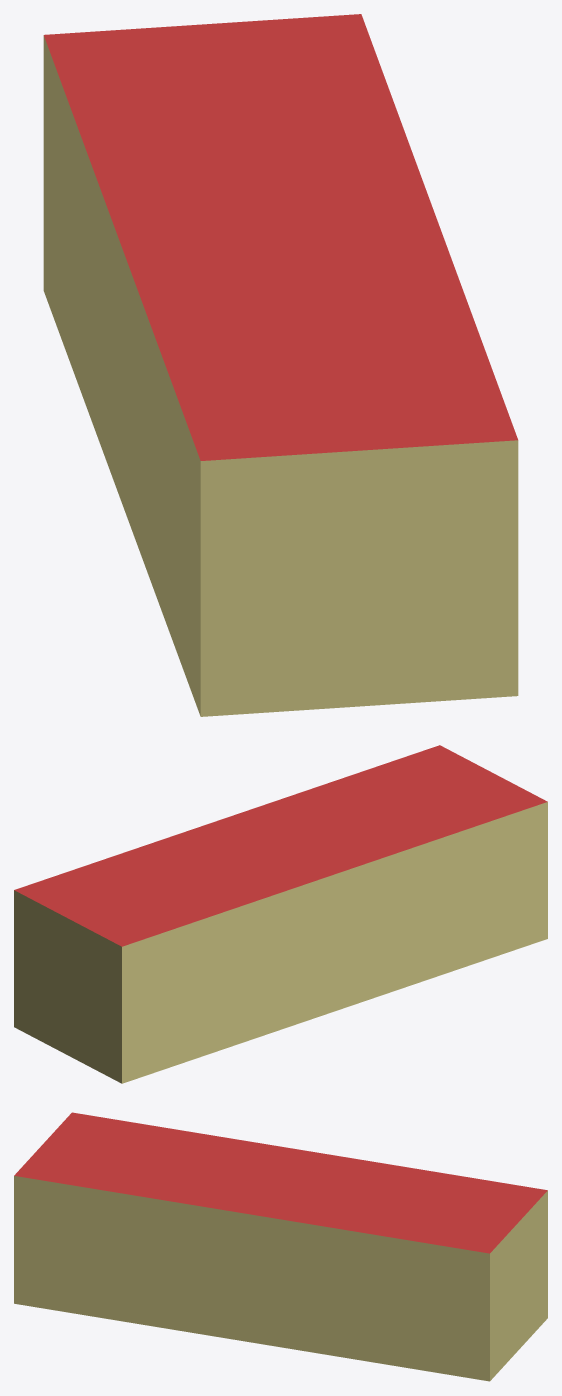
3 views of the same model, one above another, from view 1: azimuth 30°, elevation 25°; view 2: azimuth 150°, elevation 25°; view 3: azimuth 270°, elevation 25° (orthographic). The views are drawn at different scales.
Size of the model in its own units: 16.03 by 25.62 by 6.77.
